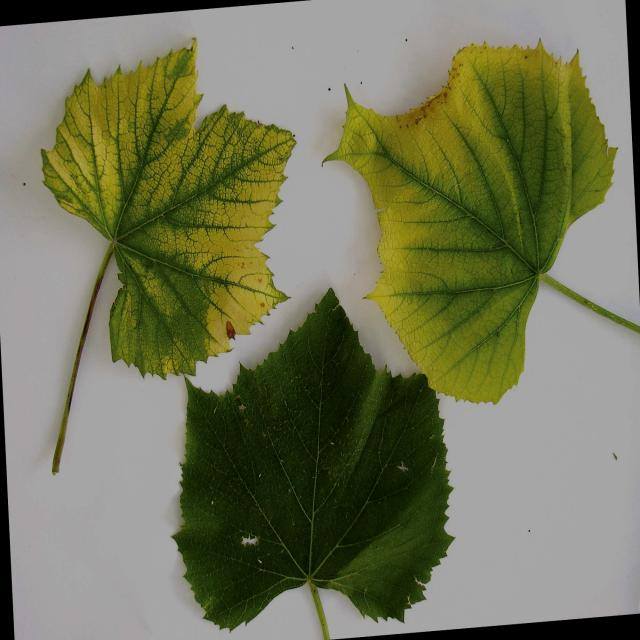Chlorosis: (15, 14, 622, 588)
